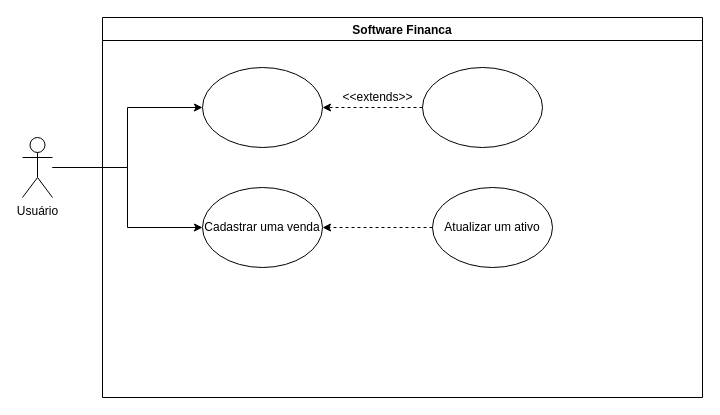
Some shapes in this 720 by 415 pixel diagram are drawn without their labels. The shapes that lost their labels are listed below. From the top down, each one's centre as x and y in pixels, then its label:
point 262,107: Cadastrar uma compra
point 482,107: Cadastrar um ativo
